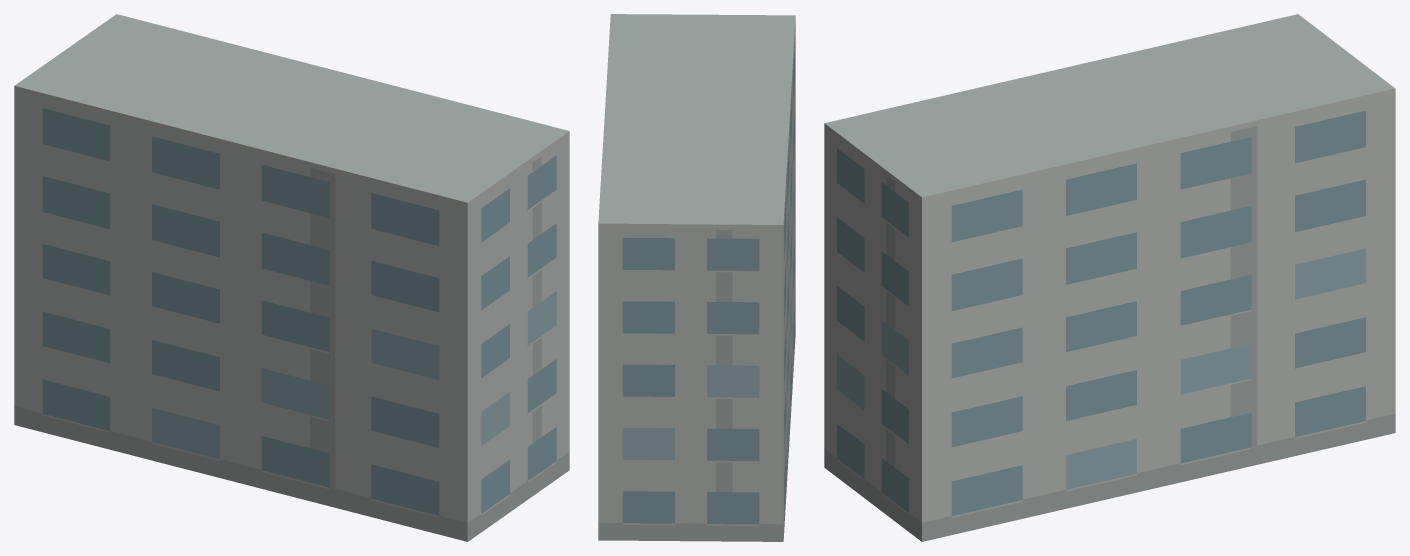
File: survey-upis-32598805.glb
The picture shows the model from 3 angles, left to right: view 1: azimuth 30°, elevation 25°; view 2: azimuth 150°, elevation 25°; view 3: azimuth 270°, elevation 25°; orthographic projection. The views are drawn at different scales.
Visible parts, largest first — view 1: survey-upis-32598805.tmp; view 2: survey-upis-32598805.tmp; view 3: survey-upis-32598805.tmp.
Part boxes in pixels (<box>): survey-upis-32598805.tmp: <box>14,14,569,541</box>; survey-upis-32598805.tmp: <box>598,14,795,541</box>; survey-upis-32598805.tmp: <box>824,14,1395,541</box>.
Size of the model in its own units: 17.16 by 15.02 by 22.58.
